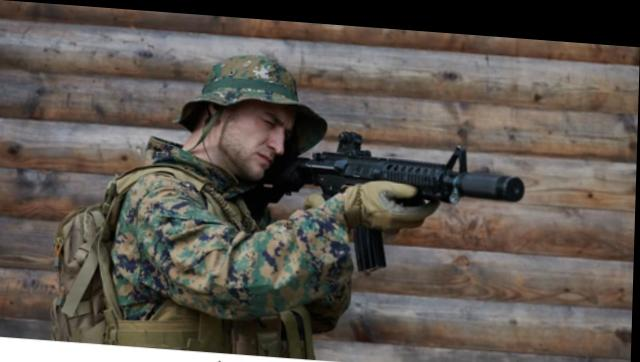other: (99, 40, 335, 349)
